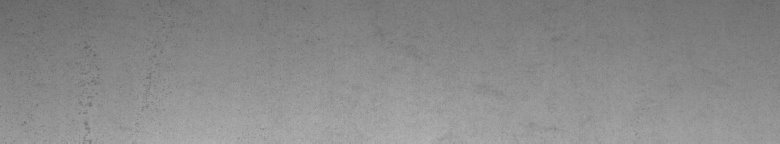ib: (76, 44, 151, 132)
